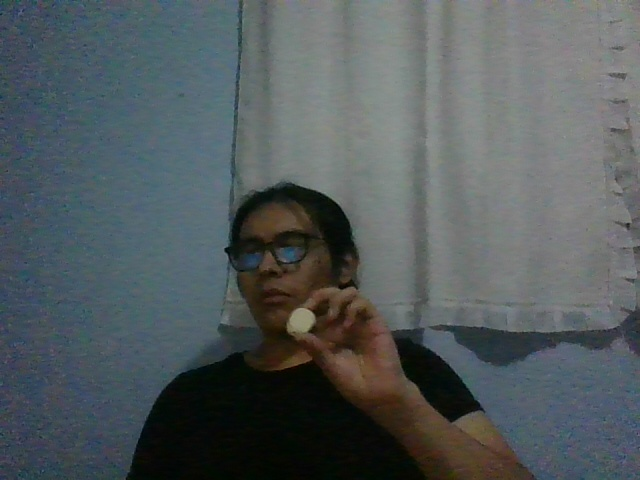goma: (286, 308, 316, 336)
